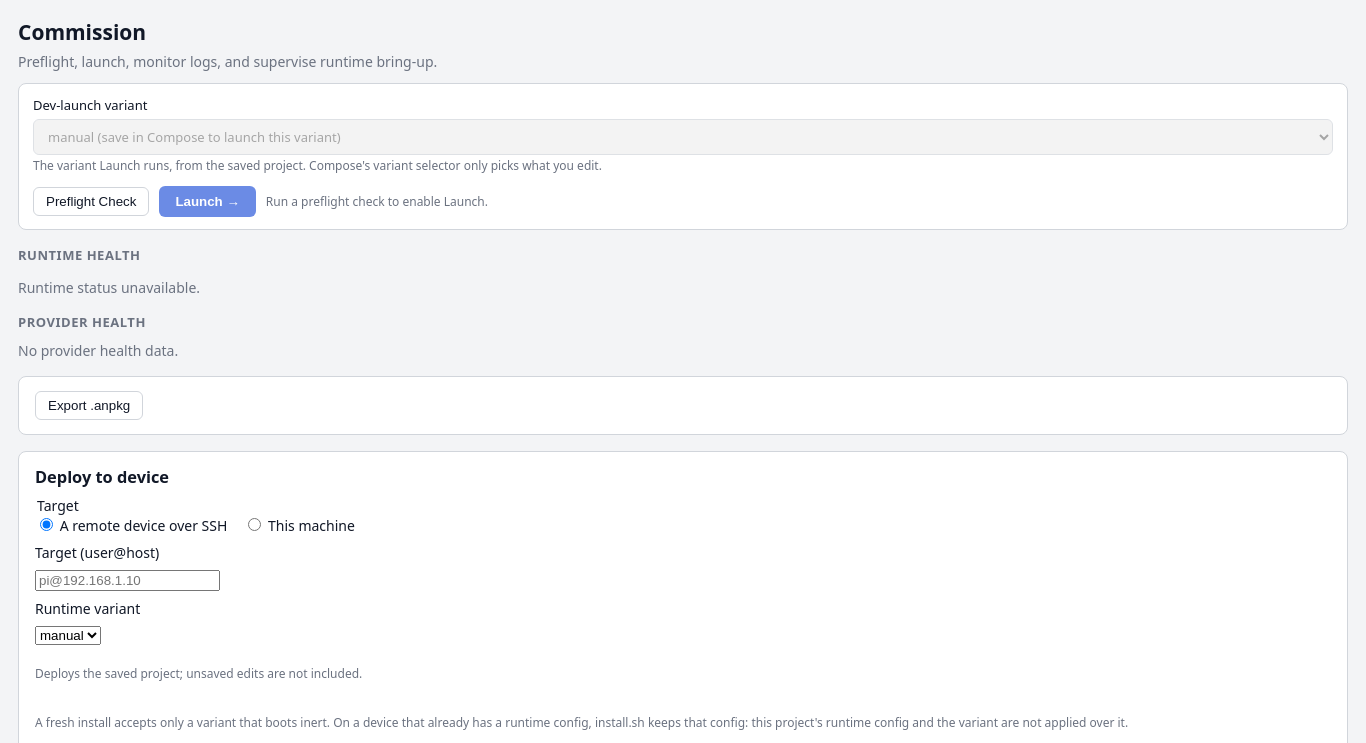
Commission.svelte › shows preflight result summary and details
The width and height of the screenshot is (1366, 743).
Click the button "Preflight Check": click(91, 202) [33, 187, 149, 216]
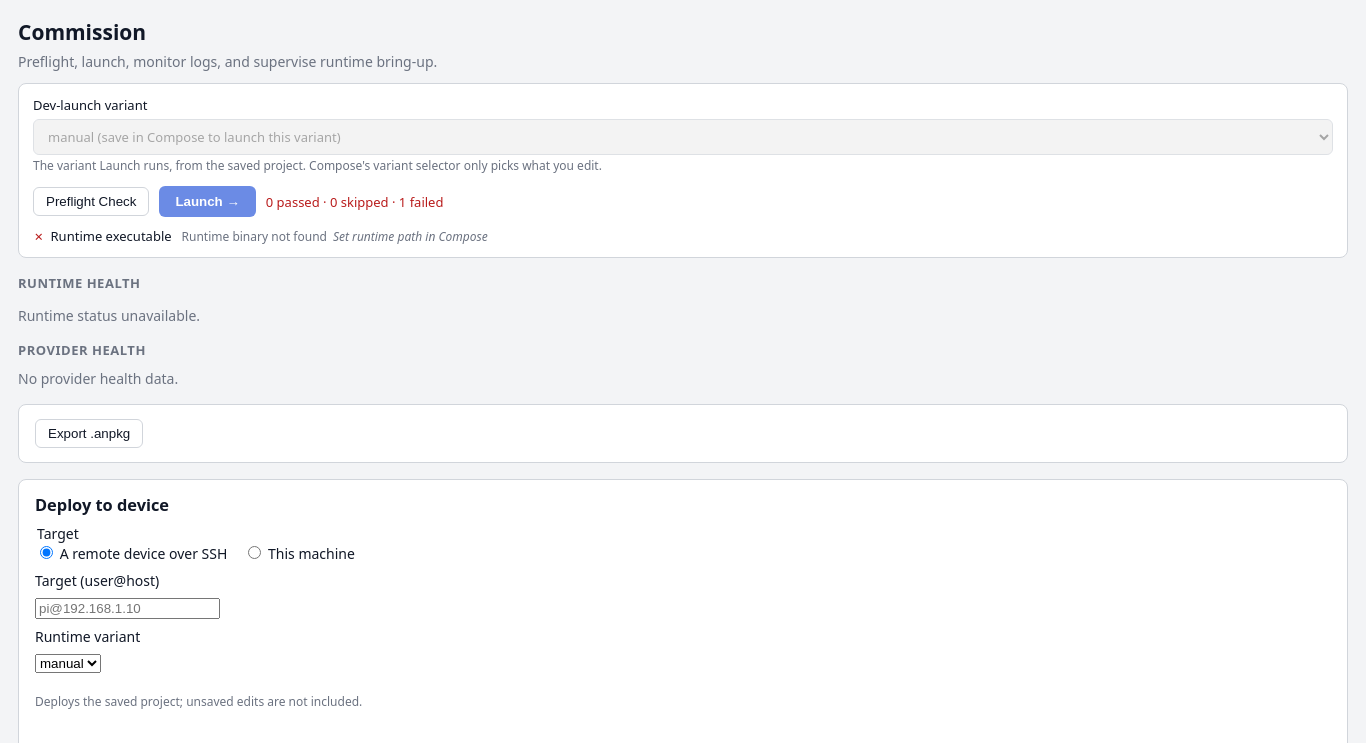
Result: the text "0 passed · 0 skipped · 1 failed" is shown at [266, 192, 444, 210]
Result: the text "Runtime executable" is shown at [50, 227, 172, 245]
Result: the text "Runtime binary not found" is shown at [182, 228, 327, 245]
